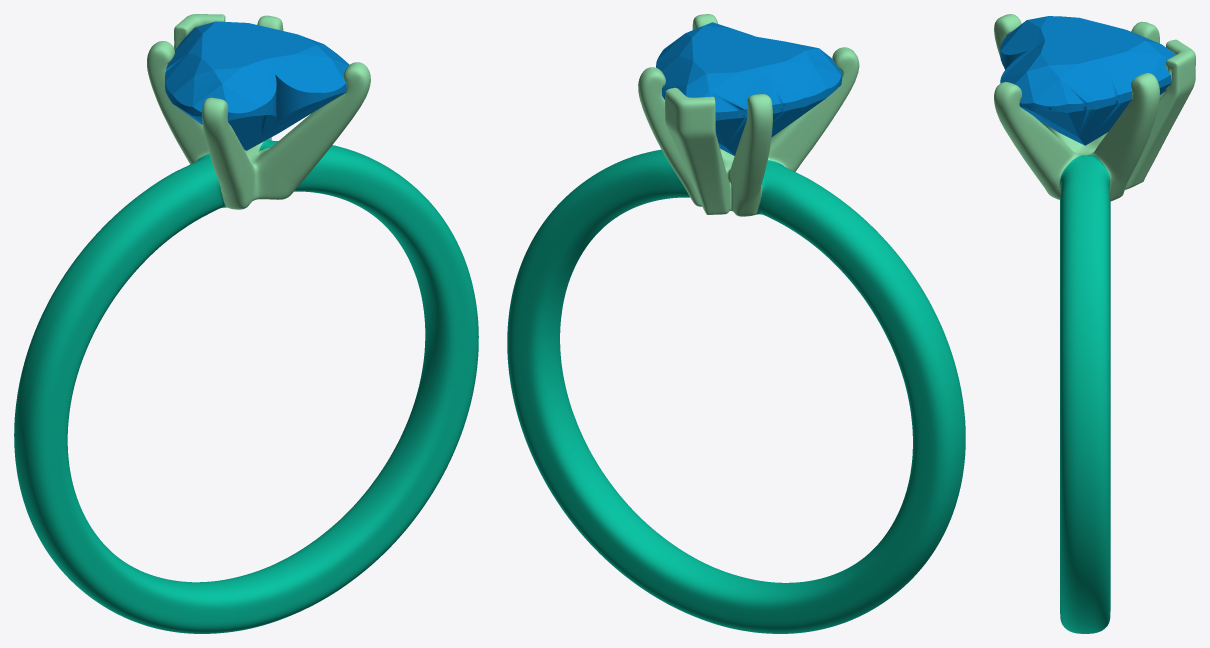
Rendered from BE101_HT_200ct_RENDER.glb.
3 views of the same model, side by side, from view 1: azimuth 30°, elevation 25°; view 2: azimuth 150°, elevation 25°; view 3: azimuth 270°, elevation 25° (orthographic).
Visible parts, largest first — view 1: Metal 01, CS_Diamond_Heart, Metal 02; view 2: Metal 01, Metal 02, CS_Diamond_Heart; view 3: Metal 01, CS_Diamond_Heart, Metal 02.
Part boxes in pixels (x1,y1,x2,y2): Metal 01: (14, 139, 478, 633); CS_Diamond_Heart: (165, 21, 349, 150); Metal 02: (147, 14, 370, 209); Metal 01: (507, 149, 965, 633); Metal 02: (638, 14, 859, 216); CS_Diamond_Heart: (656, 22, 842, 155); Metal 01: (1060, 154, 1110, 633); CS_Diamond_Heart: (1000, 16, 1175, 145); Metal 02: (994, 14, 1195, 201).
Bounding box in the file's own units: 20.38 × 24.93 × 8.02.
